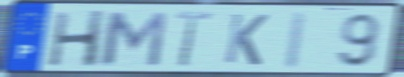9: (335, 11, 384, 69)
H: (45, 9, 109, 69)
I: (281, 9, 311, 70)
K: (221, 11, 271, 68)
M: (100, 10, 170, 68)
T: (173, 9, 215, 69)
